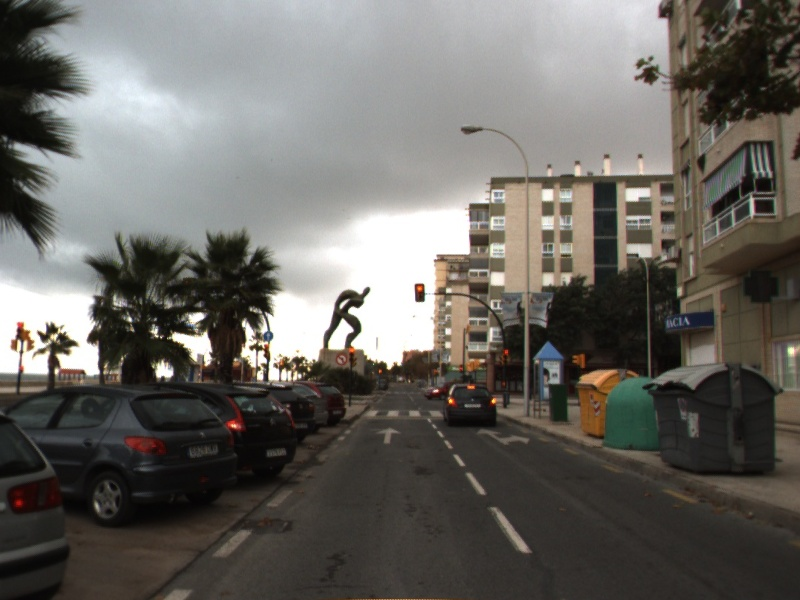STRAIGHT: (374, 425, 404, 445)
STRAIGHT_RIGHT: (474, 426, 532, 447)
